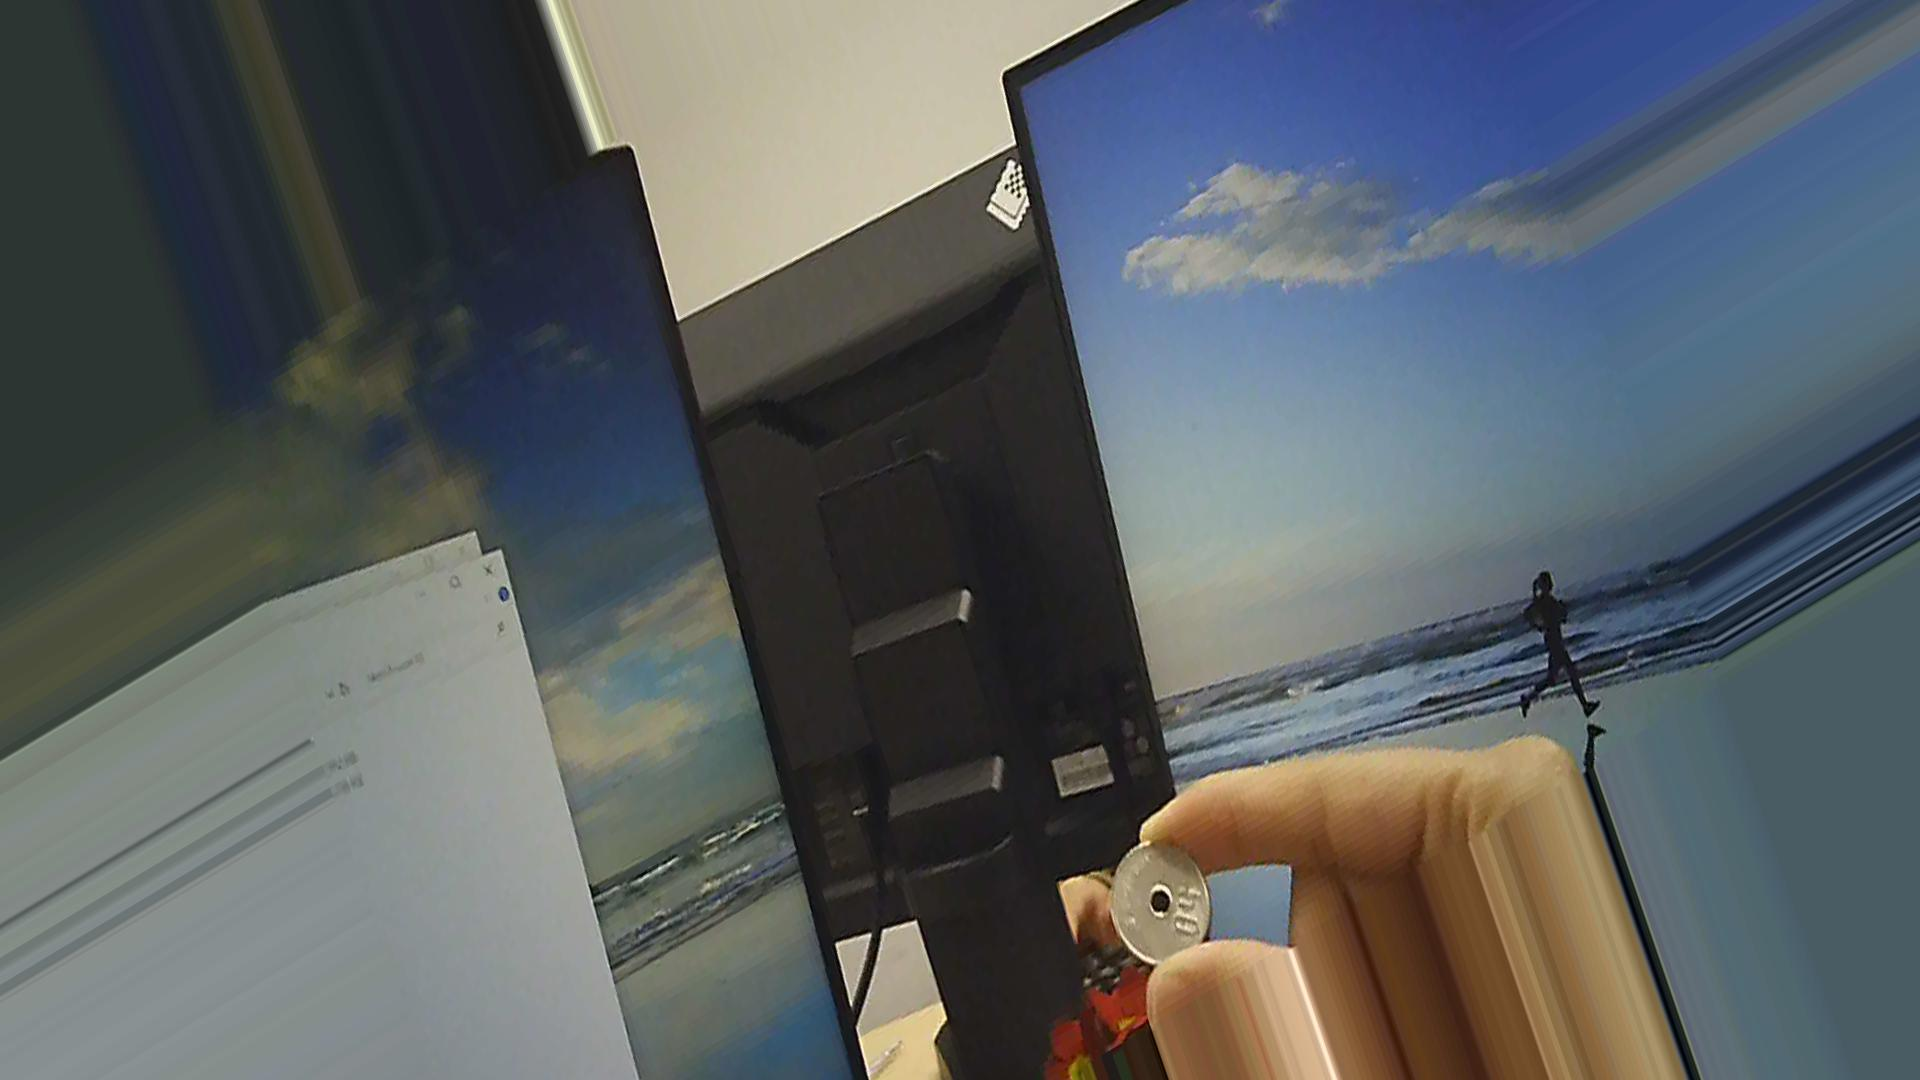50 Yen: (1106, 844, 1218, 971)
